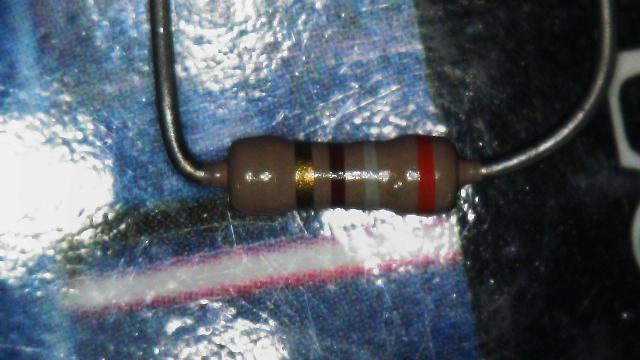brown: (328, 142, 344, 206)
gold: (296, 142, 314, 209)
orange: (415, 136, 434, 213)
resistor: (217, 109, 481, 227)
white: (363, 142, 380, 208)
